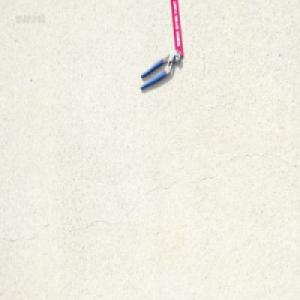Label: (170, 0, 184, 57)
Pliers: (139, 46, 182, 90)
